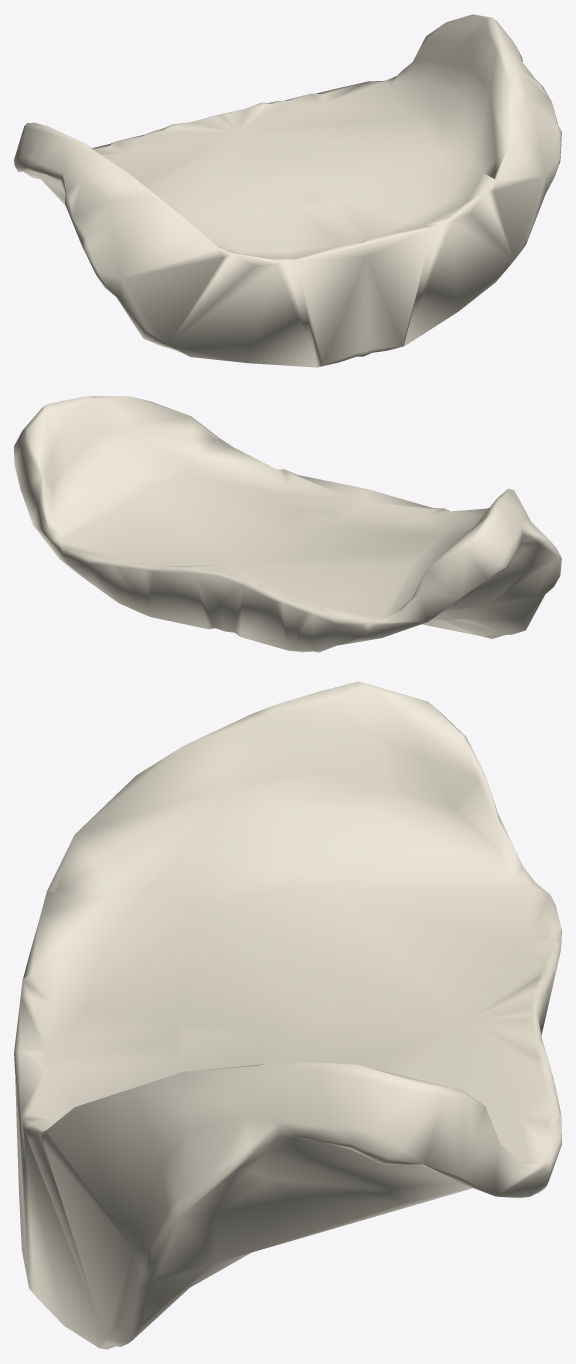
3 renders of one model, top to bottom at view 1: azimuth 30°, elevation 25°; view 2: azimuth 150°, elevation 25°; view 3: azimuth 270°, elevation 25°, orthographic. The views are drawn at different scales.
Visible parts, largest first — view 1: ZA_27c3887ce4294182; view 2: ZA_27c3887ce4294182; view 3: ZA_27c3887ce4294182.
Part boxes in pixels (x1,y1,x2,y2): ZA_27c3887ce4294182: (14, 14, 561, 367); ZA_27c3887ce4294182: (14, 396, 561, 652); ZA_27c3887ce4294182: (14, 681, 561, 1349).
Bounding box in the file's own units: 0.0273 × 0.0116 × 0.015.
